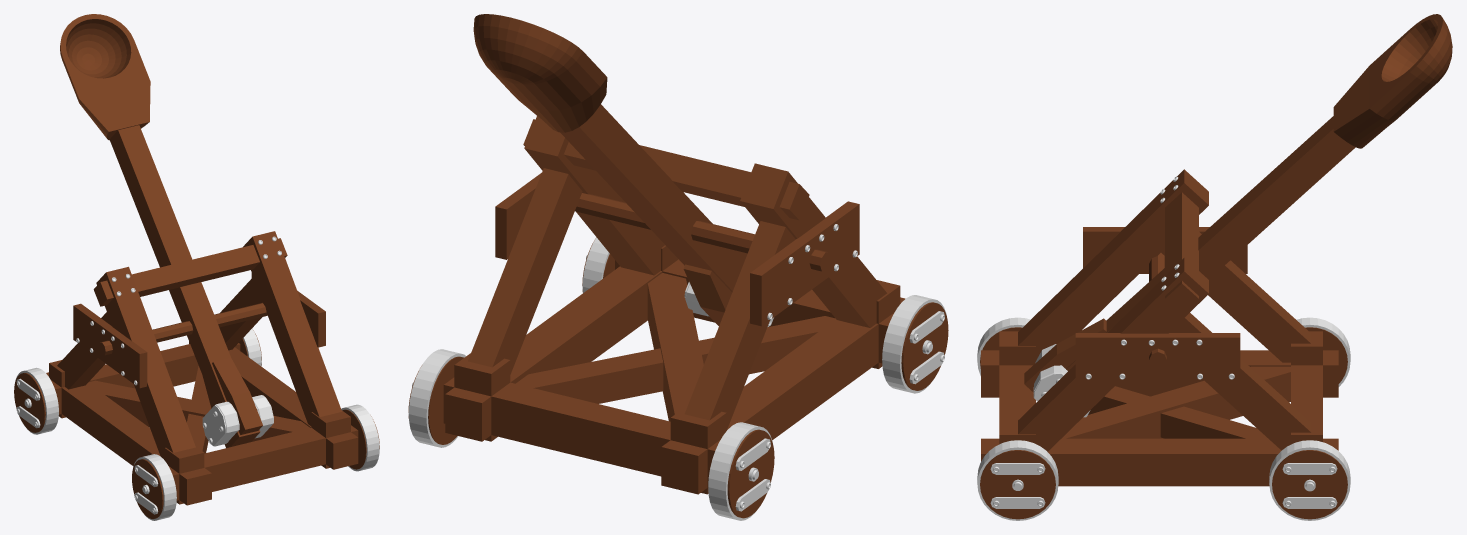
Rendered from CatapultModelv1.fbx.
3 renders of one model, left to right at view 1: azimuth 30°, elevation 25°; view 2: azimuth 150°, elevation 25°; view 3: azimuth 270°, elevation 25°, orthographic. The views are drawn at different scales.
Parts seen in each view (by area): view 1: Cube.001; view 2: Cube.001; view 3: Cube.001.
Boxes of the visible parts, x1,y1,x2,y2 form: Cube.001: (14, 14, 379, 520); Cube.001: (408, 14, 948, 520); Cube.001: (977, 14, 1452, 520).
Bounding box in the file's own units: 675 × 1012 × 1001.
